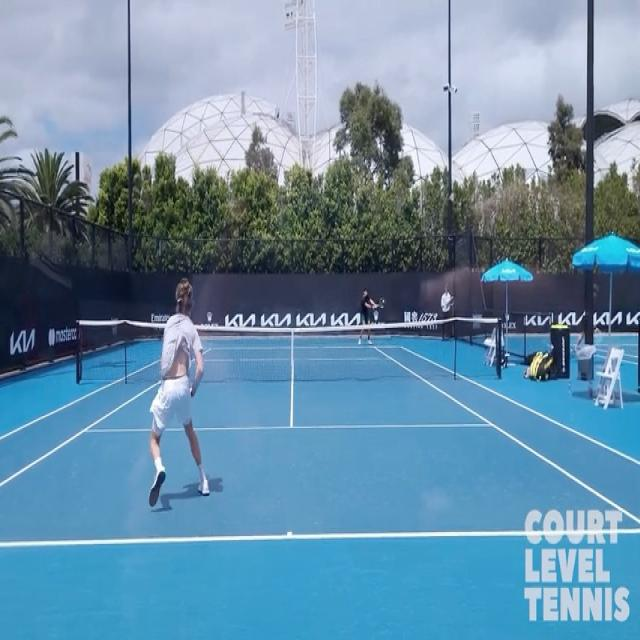ready-position: (144, 265, 216, 514)
